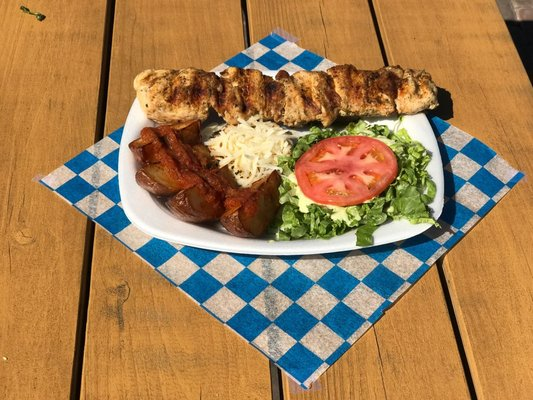curry: (29, 1, 533, 398)
